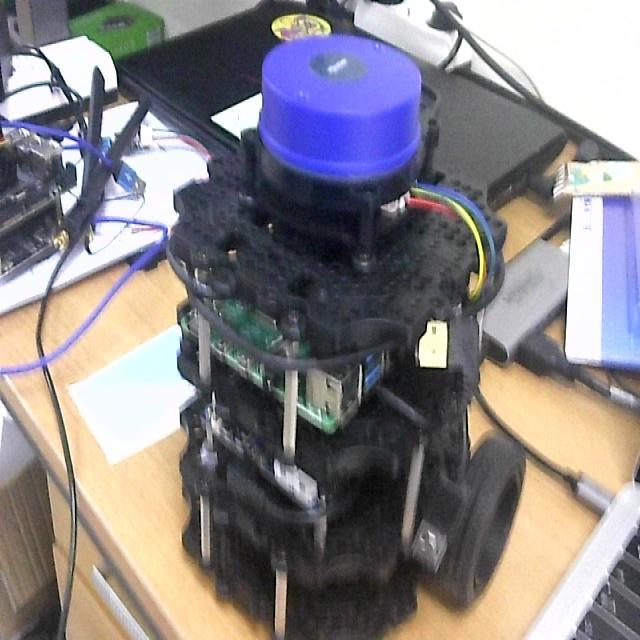turtle: (165, 33, 528, 640)
